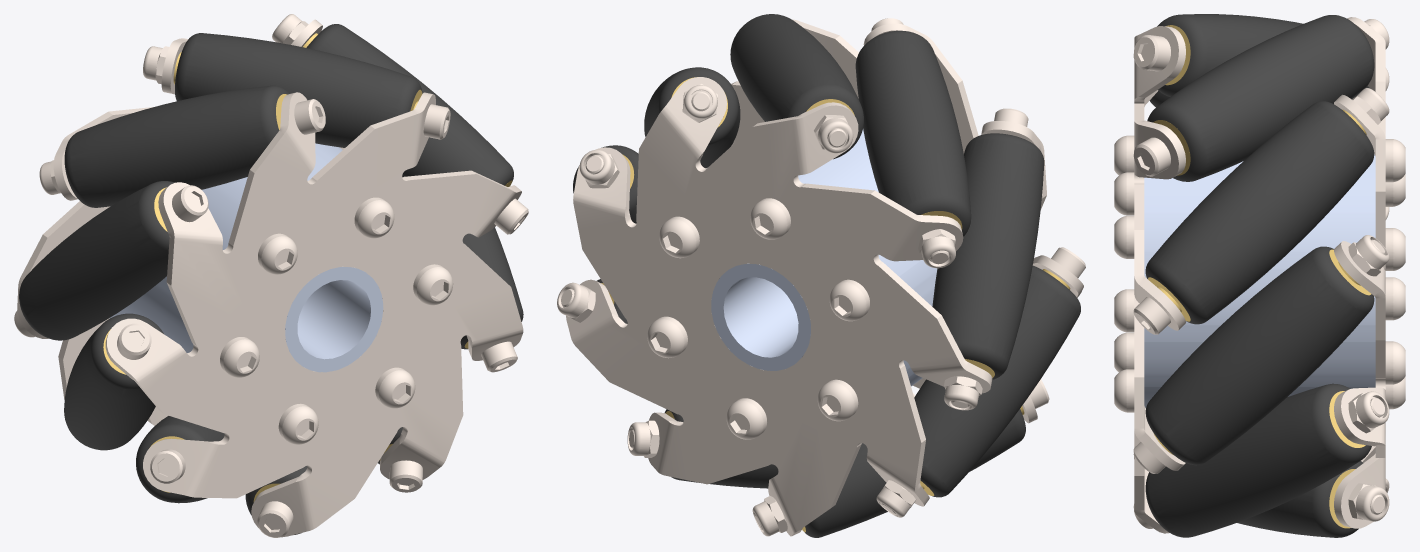
3 views of the same model, side by side, from view 1: azimuth 30°, elevation 25°; view 2: azimuth 150°, elevation 25°; view 3: azimuth 270°, elevation 25° (orthographic). The views are drawn at different scales.
Parts seen in each view (by area): view 1: node3, node0, node1, node2; view 2: node3, node0, node1, node2; view 3: node0, node3, node1, node2.
Boxes of the visible parts, left/top/right/bottom form: node3: left=14, top=14, right=528, bottom=537; node0: left=19, top=24, right=523, bottom=534; node1: left=109, top=143, right=383, bottom=372; node2: left=103, top=33, right=512, bottom=501; node3: left=557, top=18, right=1085, bottom=536; node0: left=573, top=14, right=1080, bottom=537; node1: left=711, top=129, right=937, bottom=386; node2: left=601, top=77, right=1070, bottom=532; node0: left=1145, top=14, right=1374, bottom=537; node3: left=1114, top=17, right=1405, bottom=533; node1: left=1144, top=154, right=1375, bottom=407; node2: left=1148, top=25, right=1371, bottom=528.
Size of the model in its own units: 0.1042 by 0.1042 by 0.058.
